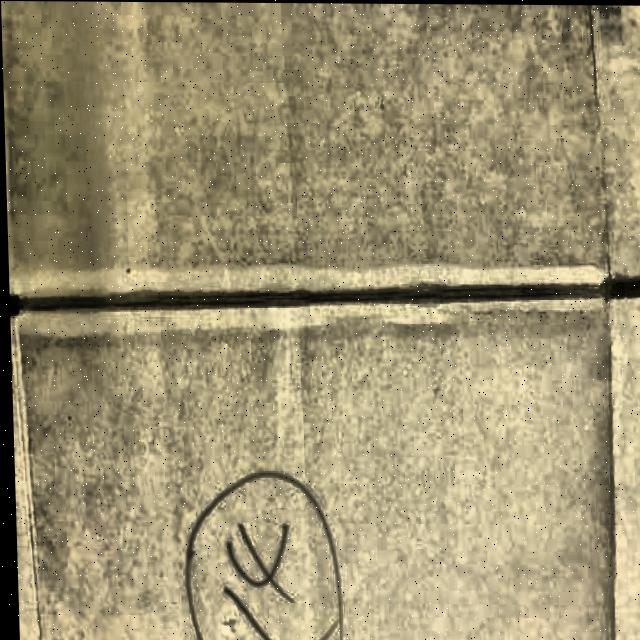cardboard: (8, 285, 620, 640)
